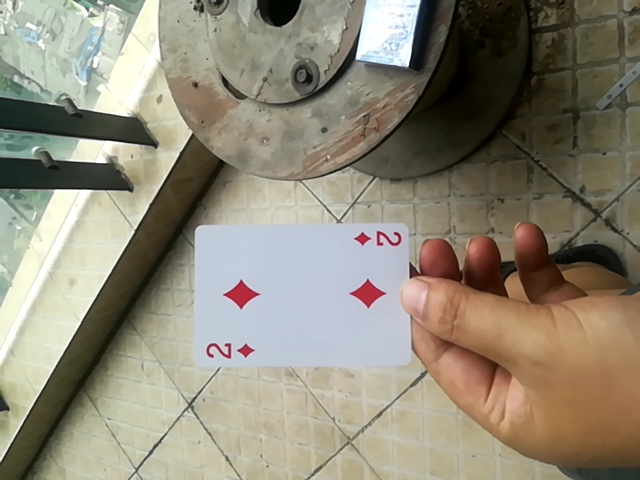fk 2: (191, 219, 422, 371)
